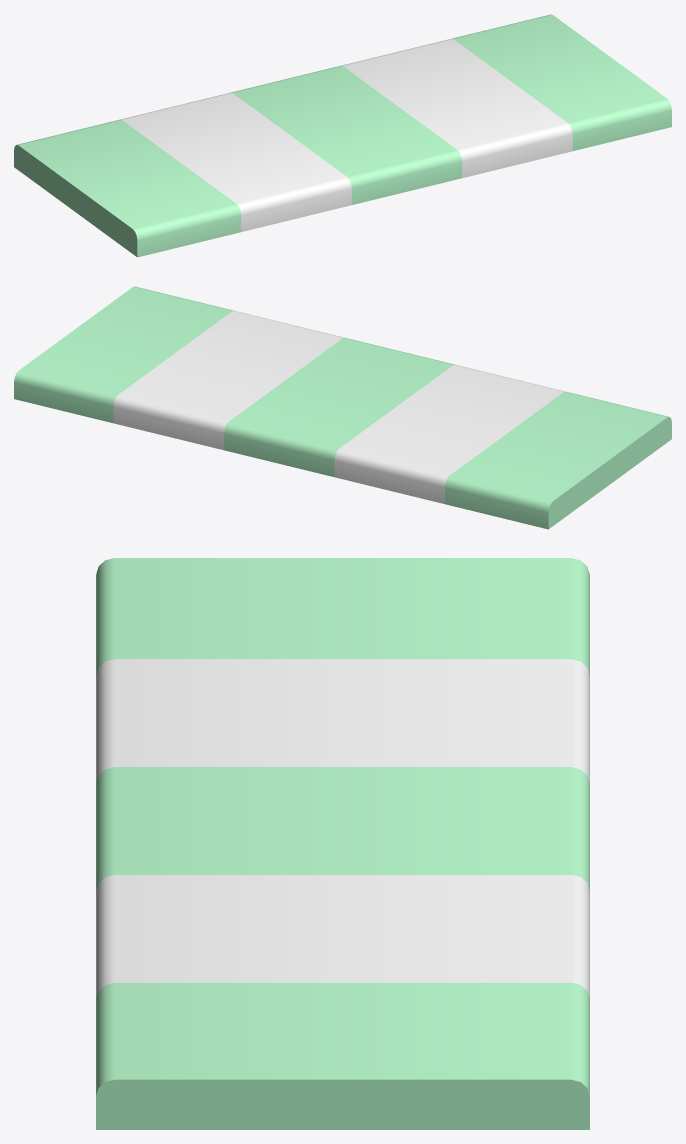
Rendered from RoadStraight2_green.fbx.
The picture shows the model from 3 angles, top to bottom: view 1: azimuth 30°, elevation 25°; view 2: azimuth 150°, elevation 25°; view 3: azimuth 270°, elevation 25°; orthographic projection. The views are drawn at different scales.
Visible parts, largest first — view 1: RoadStraight2_green; view 2: RoadStraight2_green; view 3: RoadStraight2_green.
Boxes of the visible parts, <box> form: RoadStraight2_green: <box>14,14,671,257</box>; RoadStraight2_green: <box>14,286,671,529</box>; RoadStraight2_green: <box>96,558,589,1129</box>.
Size of the model in its own units: 750 by 33.61 by 300.
Materials: 1 (1 with a texture image).
